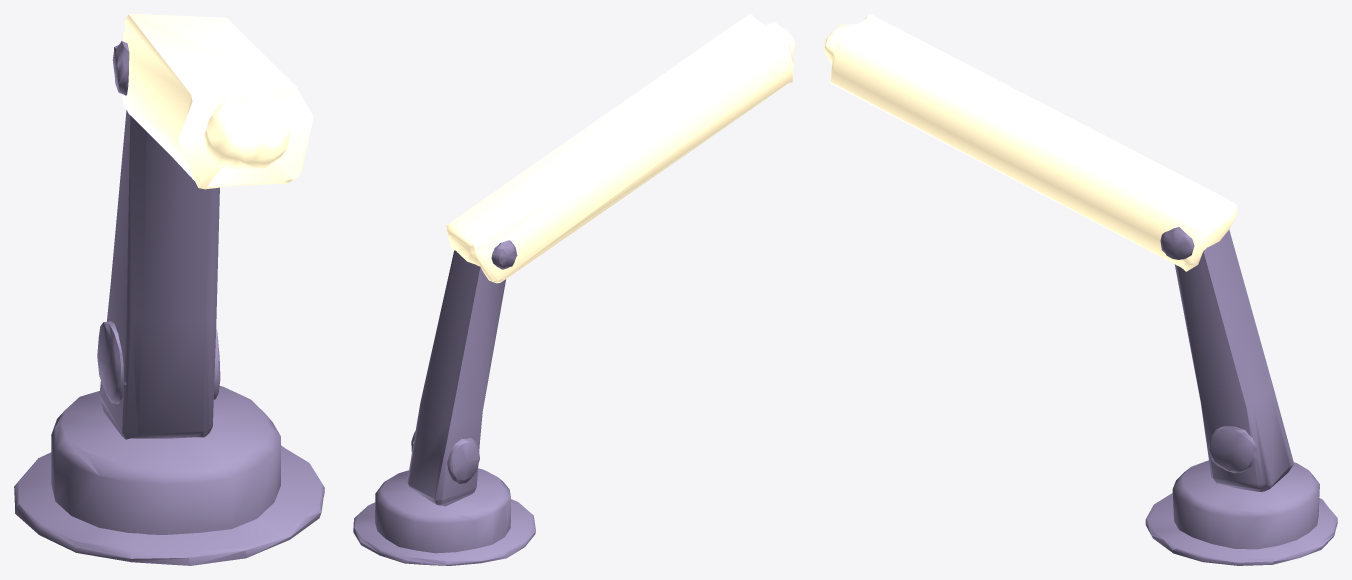
File: gaming_lamp.glb
The picture shows the model from 3 angles, left to right: view 1: azimuth 30°, elevation 25°; view 2: azimuth 150°, elevation 25°; view 3: azimuth 270°, elevation 25°; orthographic projection. The views are drawn at different scales.
Bounding box in the file's own units: 0.55 × 0.8484 × 0.9189.
